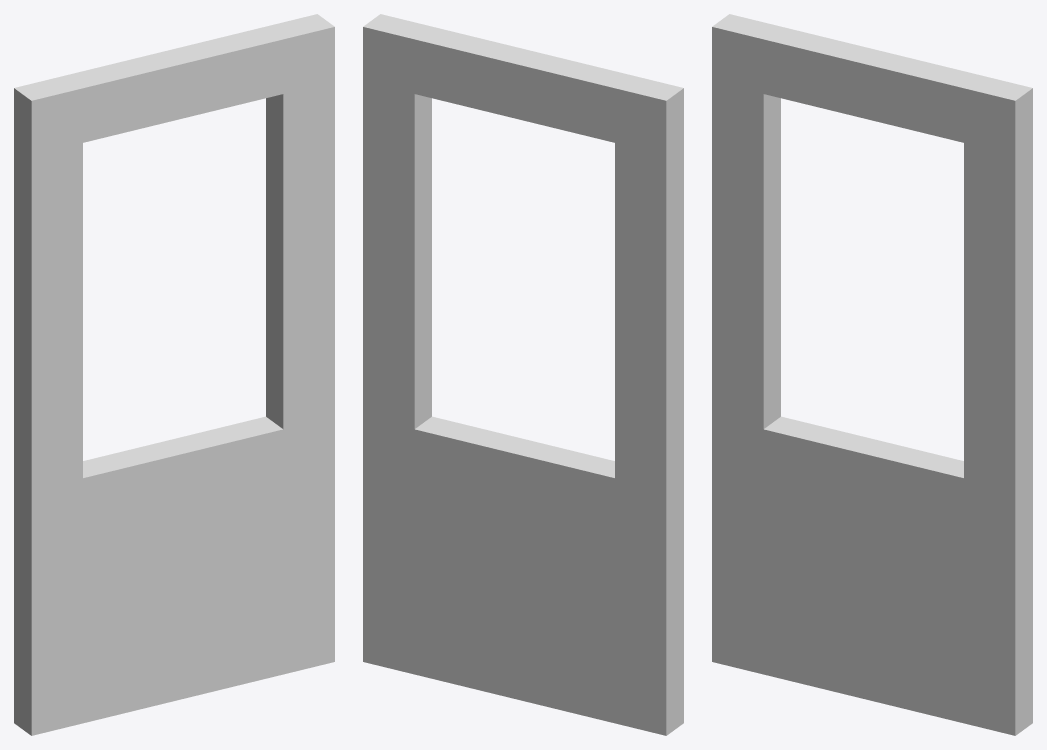
The model's file is PlainSmallWindowframe.glb.
The picture shows the model from 3 angles, left to right: view 1: azimuth 30°, elevation 25°; view 2: azimuth 150°, elevation 25°; view 3: azimuth 330°, elevation 25°; orthographic projection.
Visible parts, largest first — view 1: PlainSmallWindowframe; view 2: PlainSmallWindowframe; view 3: PlainSmallWindowframe.
Part boxes in pixels (x1,y1,x2,y2): PlainSmallWindowframe: (14, 14, 334, 735); PlainSmallWindowframe: (363, 14, 683, 735); PlainSmallWindowframe: (712, 14, 1032, 735).
Bounding box in the file's own units: 1 × 2 × 0.1.
1 material, 1 textured.
